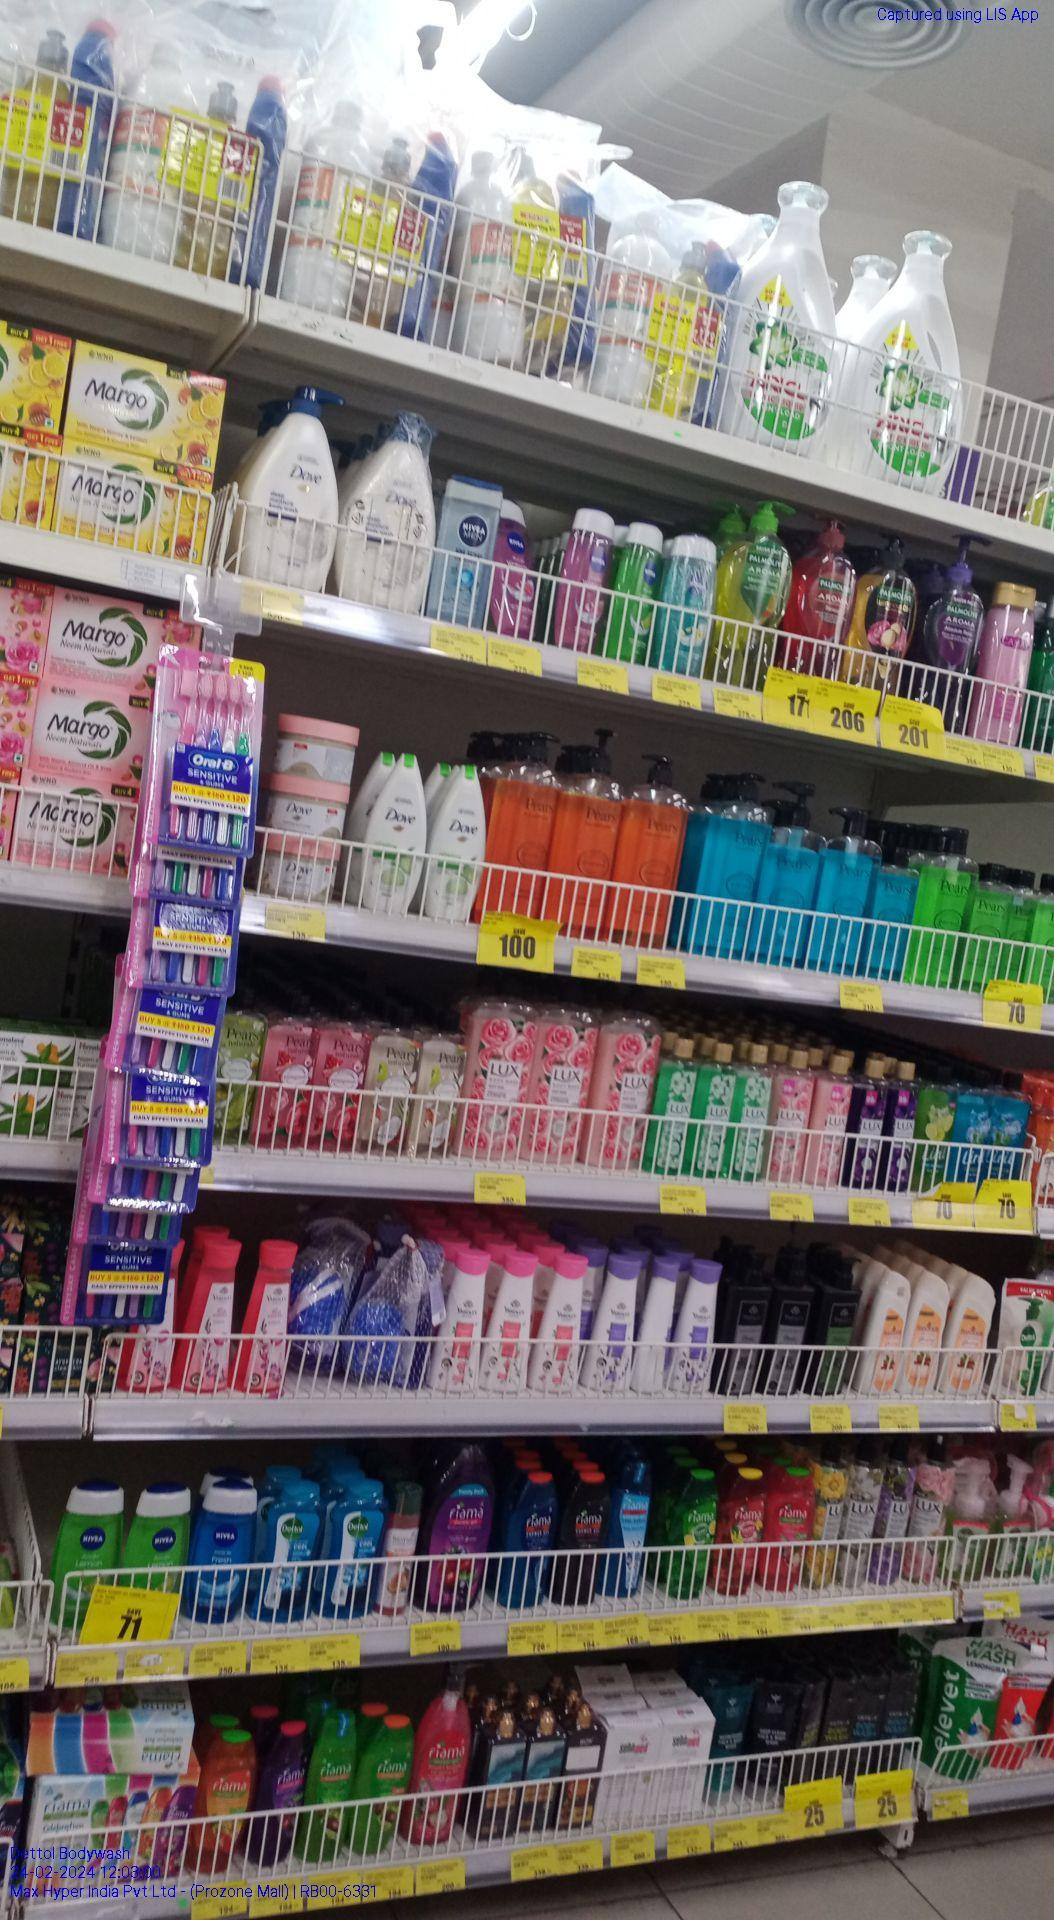Dettol_Bodywash_Cool: (323, 1484, 387, 1619), (260, 1485, 317, 1619)
Dove_Refreshing_Body_Wash_250ML: (361, 750, 423, 908), (432, 763, 482, 922)
Fiama_Shower_Gel_Lemongrass_and_Jojoba_250ML: (305, 1710, 357, 1866), (360, 1710, 411, 1859)
Fiama_Shower_Gel_Peach_and_Avocado_250ML: (200, 1732, 256, 1876)
Liril_Cooling_Mint_Body_Wash_250ML: (990, 1075, 1031, 1178), (949, 1074, 987, 1183)
Liril_Lime_and_Tea_Tree_Oil_Body_Wash_250ML: (919, 1069, 945, 1179)
Lux_Black_Orchid_Scent_and_Juniper_Oil_Body_Wash_245ML: (854, 1059, 885, 1188), (888, 1064, 915, 1195)
Lux_Body_Wash_Skin_Detox_Freesia_Scent_and_Alove_Vera_245ML: (692, 1040, 729, 1175), (733, 1039, 768, 1179), (656, 1039, 687, 1175)
Nivea_Shower_Gel_Frangipani_and_Oil_250ML: (661, 536, 714, 667)
Nivea_Shower_Gel_Lemon_and_Oil_250ML: (47, 1488, 119, 1583), (126, 1482, 188, 1590), (622, 518, 652, 668)
Pears_Naturale_Aloe_Vera_Body_Wash_250ML: (217, 1003, 260, 1144)
Pears_Pure_Glycerin_and_Lemon_Flower_Extracts_Body_Wash_250ML: (972, 863, 1011, 979)
Pears_Pure_Glycerin_and_Mint_Extracts_Body_Wash_250ML: (872, 847, 916, 974)
